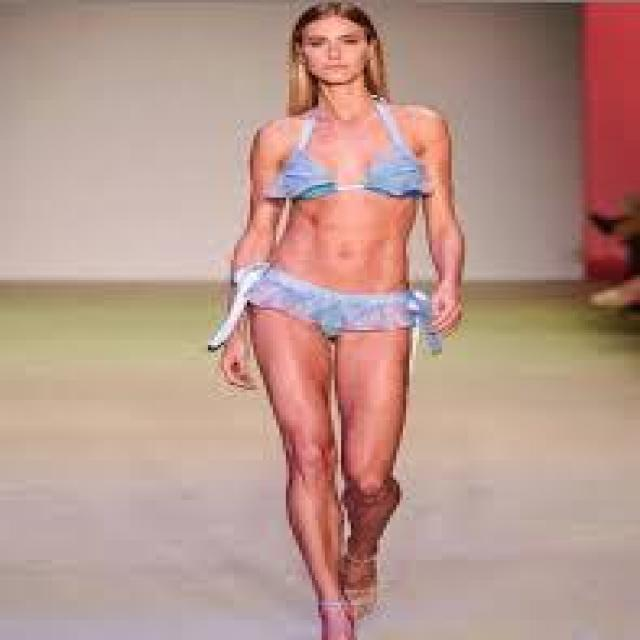person: (185, 0, 465, 638)
